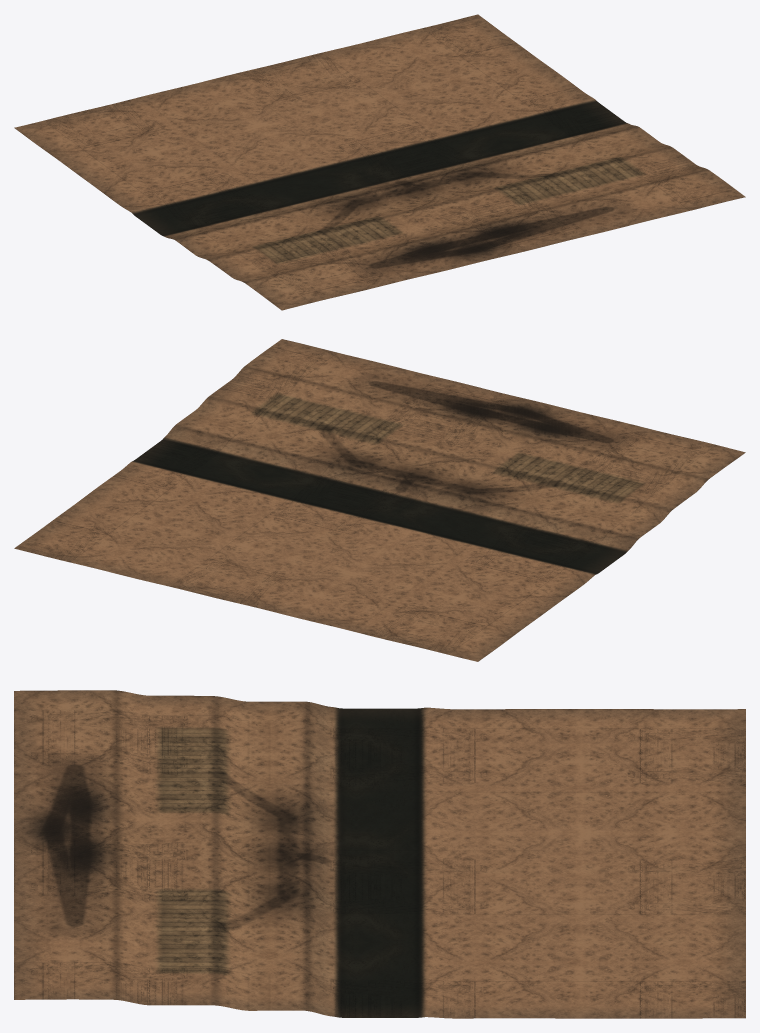
The model's file is pressure-garden-terrain.glb.
3 renders of one model, top to bottom at view 1: azimuth 30°, elevation 25°; view 2: azimuth 150°, elevation 25°; view 3: azimuth 270°, elevation 25°, orthographic. The views are drawn at different scales.
Visible parts, largest first — view 1: PressureGardenTerrain; view 2: PressureGardenTerrain; view 3: PressureGardenTerrain.
Boxes of the visible parts, x1,y1,x2,y2 form: PressureGardenTerrain: (14, 14, 745, 310); PressureGardenTerrain: (14, 339, 745, 661); PressureGardenTerrain: (14, 690, 745, 1018).
Bounding box in the file's own units: 96 × 2.8 × 96.
Materials: 1 (1 with a texture image).
